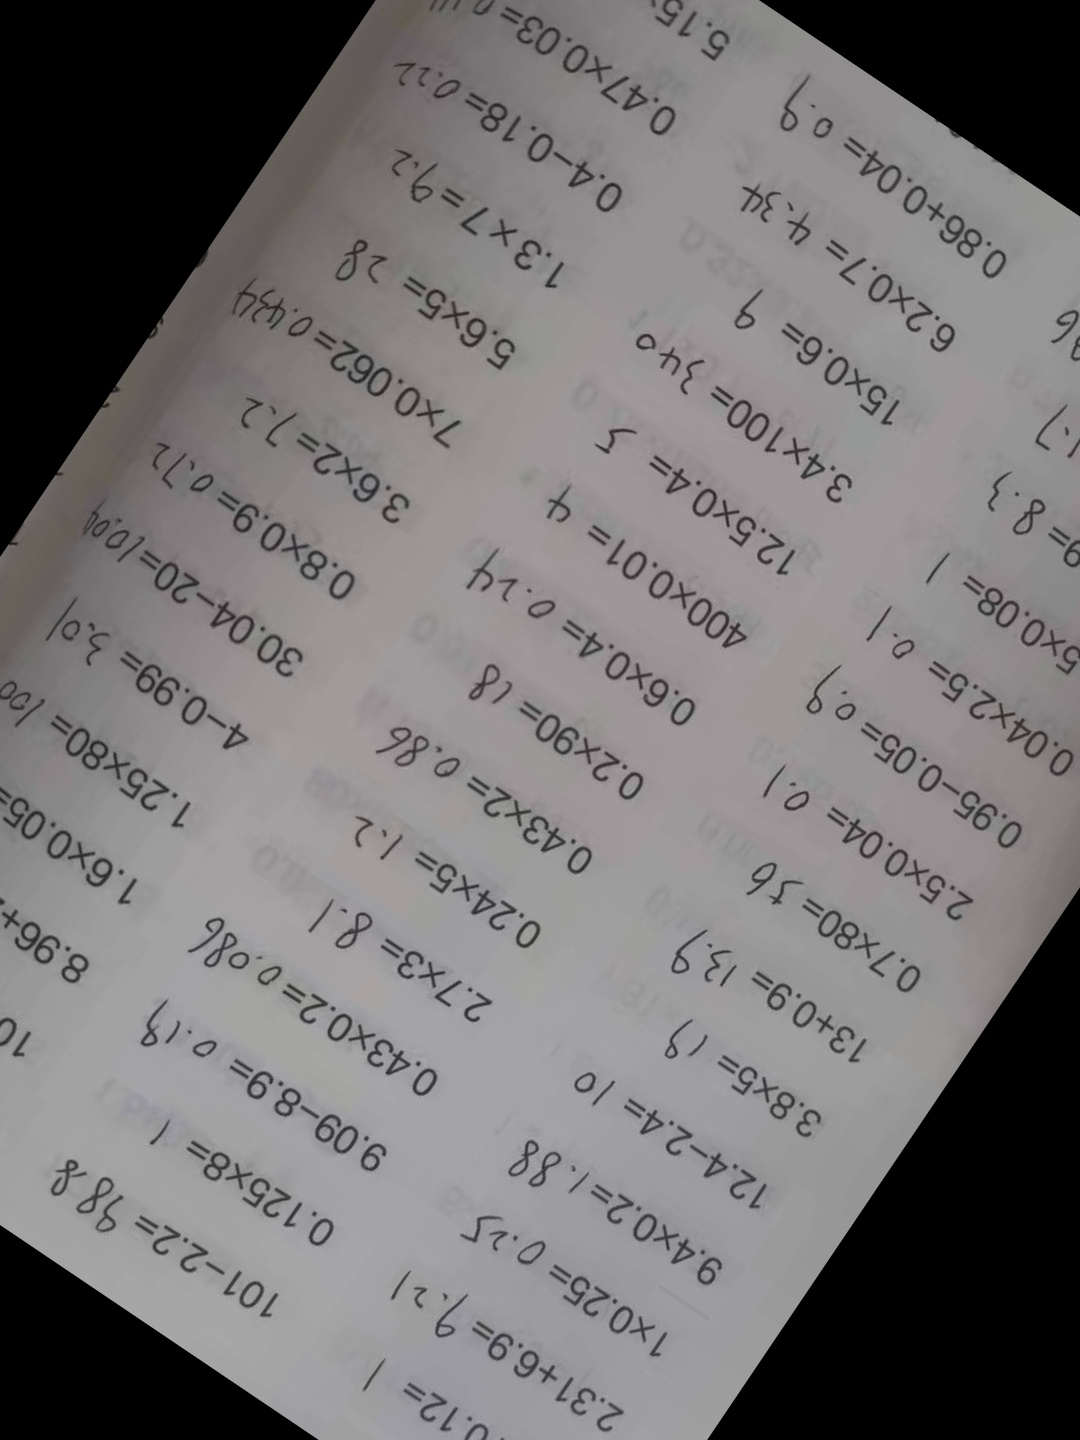equation: (765, 85, 1022, 269), (184, 924, 444, 1106), (604, 322, 860, 500), (136, 1000, 386, 1178), (388, 1268, 624, 1434), (467, 557, 703, 723), (801, 671, 1032, 839), (77, 511, 312, 676), (42, 1158, 276, 1321), (390, 49, 625, 211), (231, 280, 463, 443), (729, 185, 960, 347), (758, 763, 986, 924), (138, 439, 365, 598), (427, 0, 677, 142), (859, 613, 1080, 772), (374, 727, 596, 882), (539, 493, 760, 649), (461, 1204, 681, 1359), (591, 422, 805, 574), (509, 1140, 723, 1291), (49, 605, 255, 753), (0, 678, 201, 828), (338, 804, 542, 949), (223, 382, 423, 524), (568, 1066, 767, 1208), (371, 150, 568, 290), (141, 1115, 335, 1254), (457, 664, 652, 803), (678, 924, 868, 1065), (734, 858, 929, 994), (331, 236, 514, 371), (306, 901, 490, 1034), (920, 550, 1080, 696), (734, 295, 910, 424), (0, 748, 145, 899), (655, 1020, 825, 1144), (363, 1359, 576, 1440), (976, 480, 1080, 628), (0, 816, 96, 973), (487, 0, 726, 61), (1035, 412, 1080, 556), (0, 892, 41, 1045), (1045, 312, 1080, 483)
